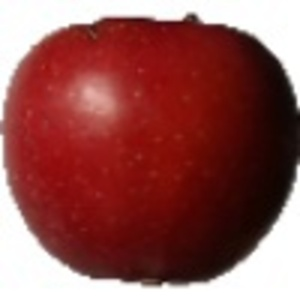maçã braeburn: (1, 7, 298, 281)
